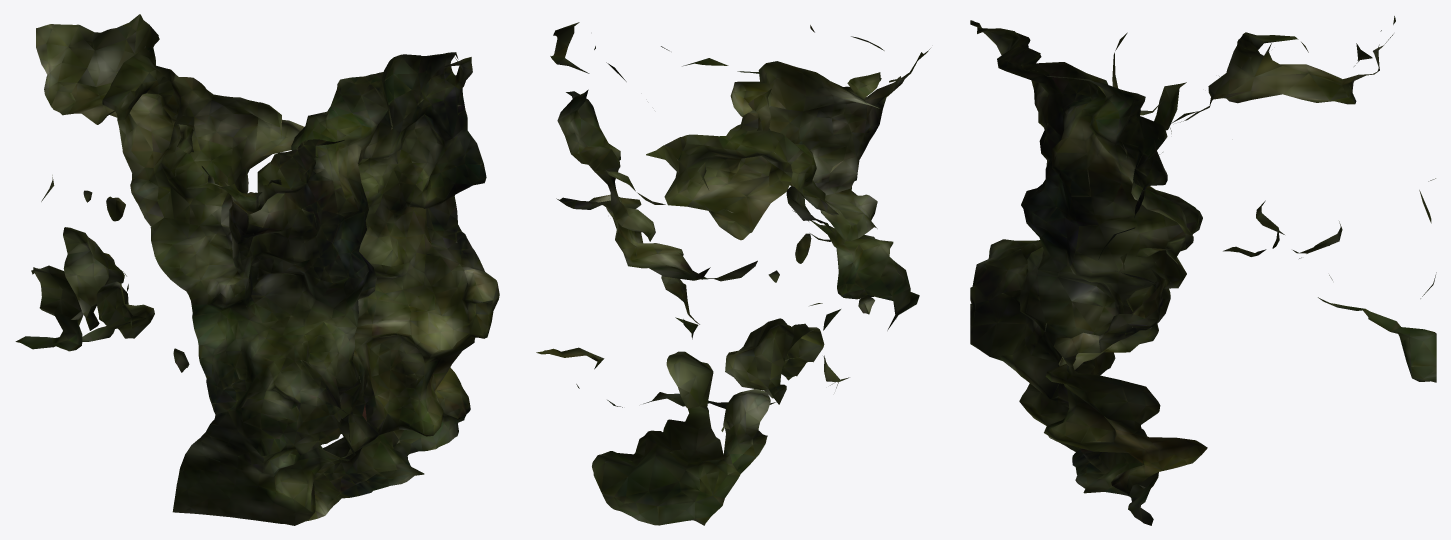
3 renders of one model, left to right at view 1: azimuth 30°, elevation 25°; view 2: azimuth 150°, elevation 25°; view 3: azimuth 270°, elevation 25°, orthographic. The views are drawn at different scales.
Size of the model in its own units: 0.4265 by 0.5261 by 0.5987.
Materials: 1 (1 with a texture image).
